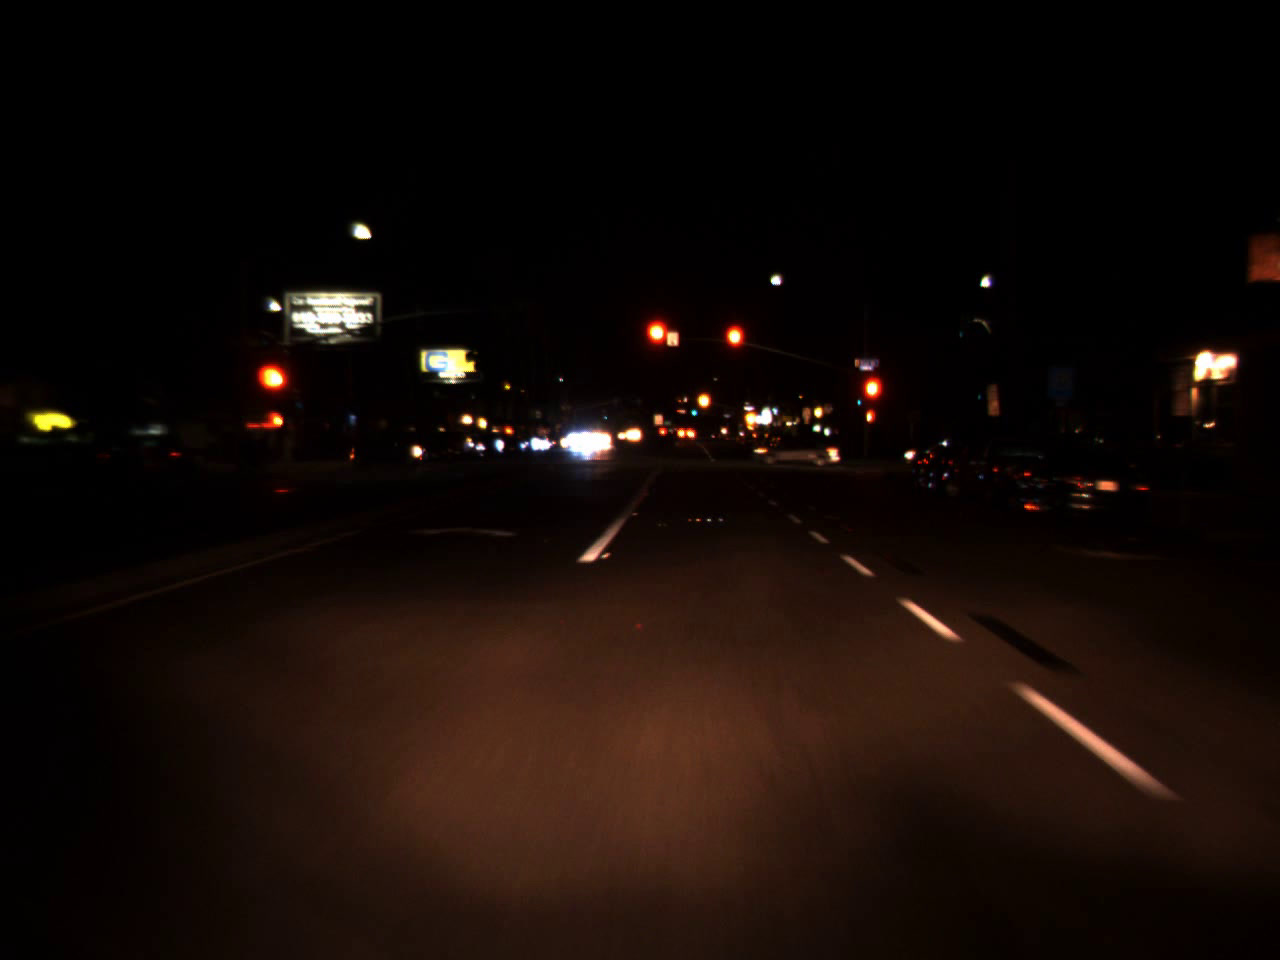go: (690, 405, 697, 417)
stop: (253, 360, 292, 424), (643, 316, 673, 372), (859, 373, 884, 427), (723, 322, 747, 373)
warning: (742, 401, 758, 433), (695, 385, 711, 415)
